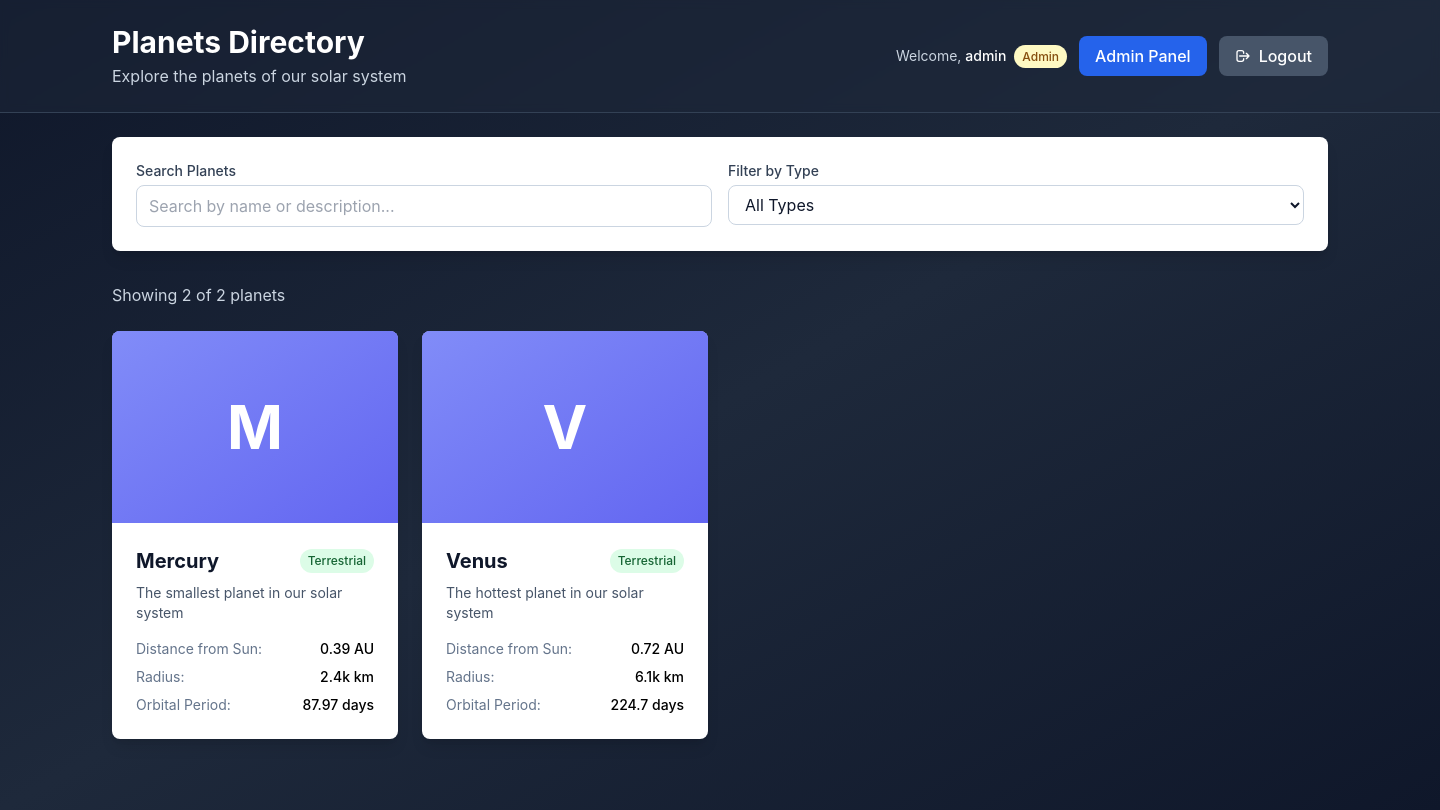
Test: Planets Component › shows no results message when no planets match filter
Expected: the heading "Mercury" is shown, [136,547,219,575]
Type "NonExistentPlanet" into the field with placeholder "Search by name or description...".
click(424, 206); type("NonExistentPlanet")  # box [136,185,712,227]
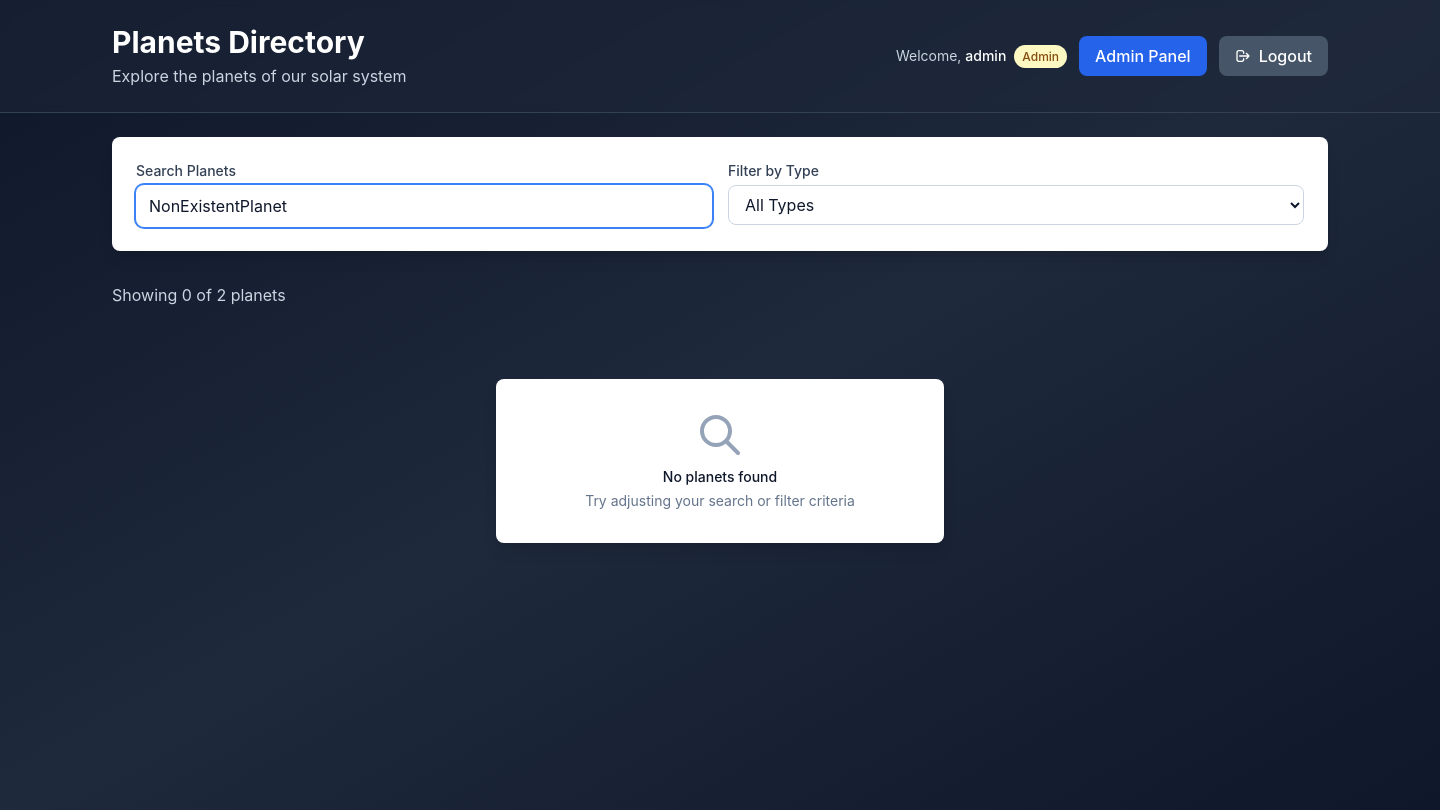
Now the heading "No planets found" is shown, box [663,468,777,485]
